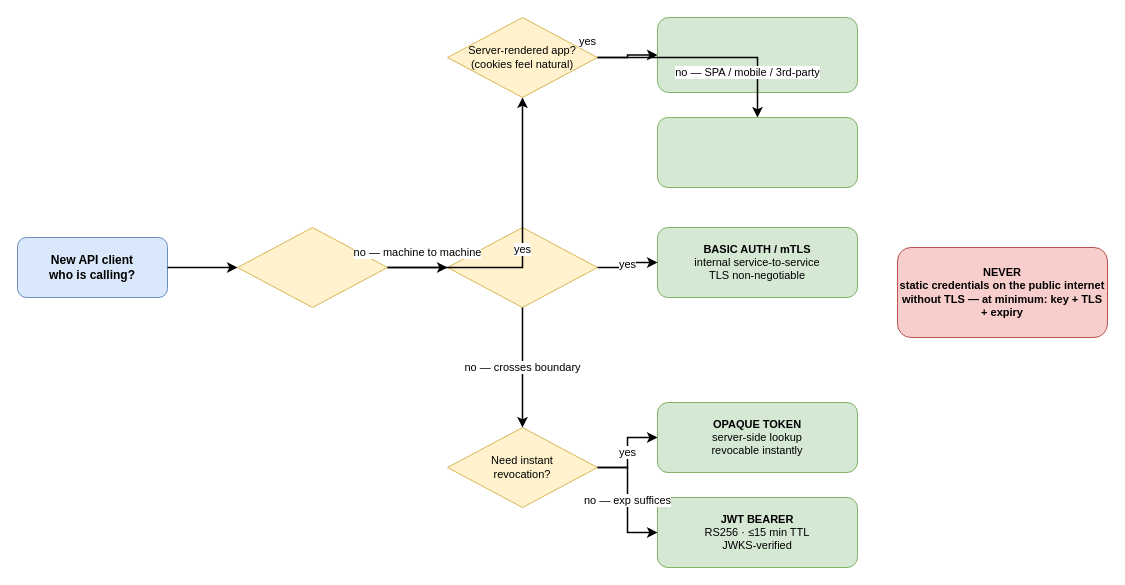
Some shapes in this 1125 by 585 pixel diagram are drawn without their labels. Here are the shapes that lost their labels. From the top down, the centre of each, then its label:
At [757,54]: "SESSION AUTH SameSite=Strict cookie + CSRF token + rotate ID at login".
At [757,152]: "OAUTH 2.0 + OIDC auth code + PKCE — or BFF pattern".
At [312,267]: "Human user? (browser / mobile)".
At [522,267]: "Same trust boundary? (VPC / service mesh)".
